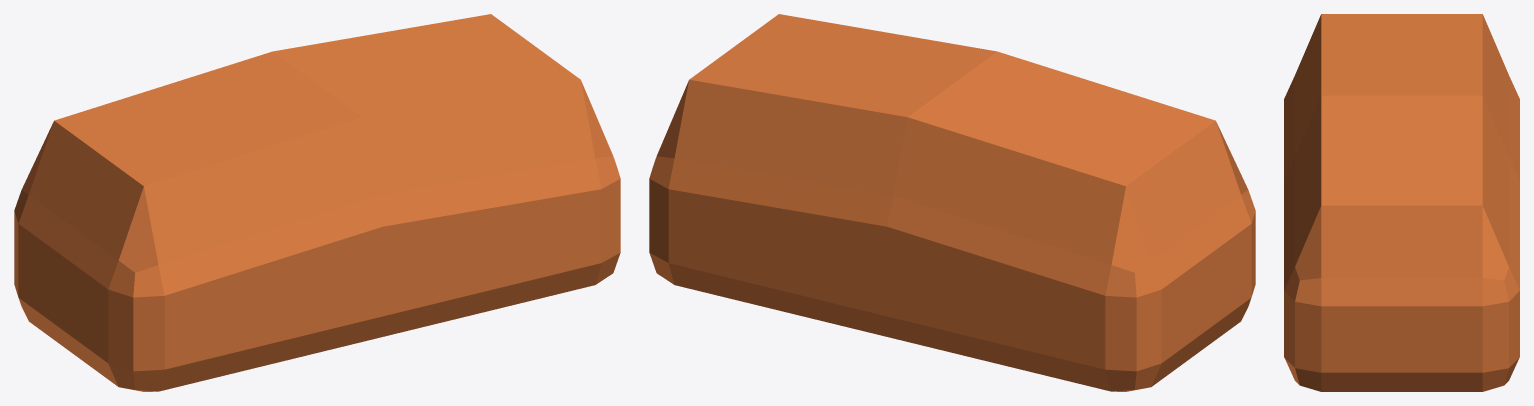
Rendered from Beach_Rock_Generator.fbx.
3 views of the same model, side by side, from view 1: azimuth 30°, elevation 25°; view 2: azimuth 150°, elevation 25°; view 3: azimuth 270°, elevation 25° (orthographic). The views are drawn at different scales.
Parts seen in each view (by area): view 1: Beach_Rock; view 2: Beach_Rock; view 3: Beach_Rock.
Part boxes in pixels (x1,y1,x2,y2): Beach_Rock: (14, 14, 620, 391); Beach_Rock: (649, 14, 1255, 391); Beach_Rock: (1284, 14, 1519, 391).
Bounding box in the file's own units: 1.96 × 0.8158 × 0.8747.
